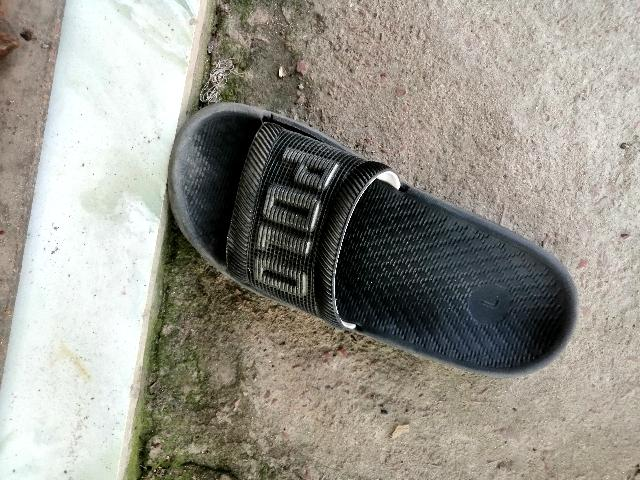sandal: (125, 79, 614, 424)
